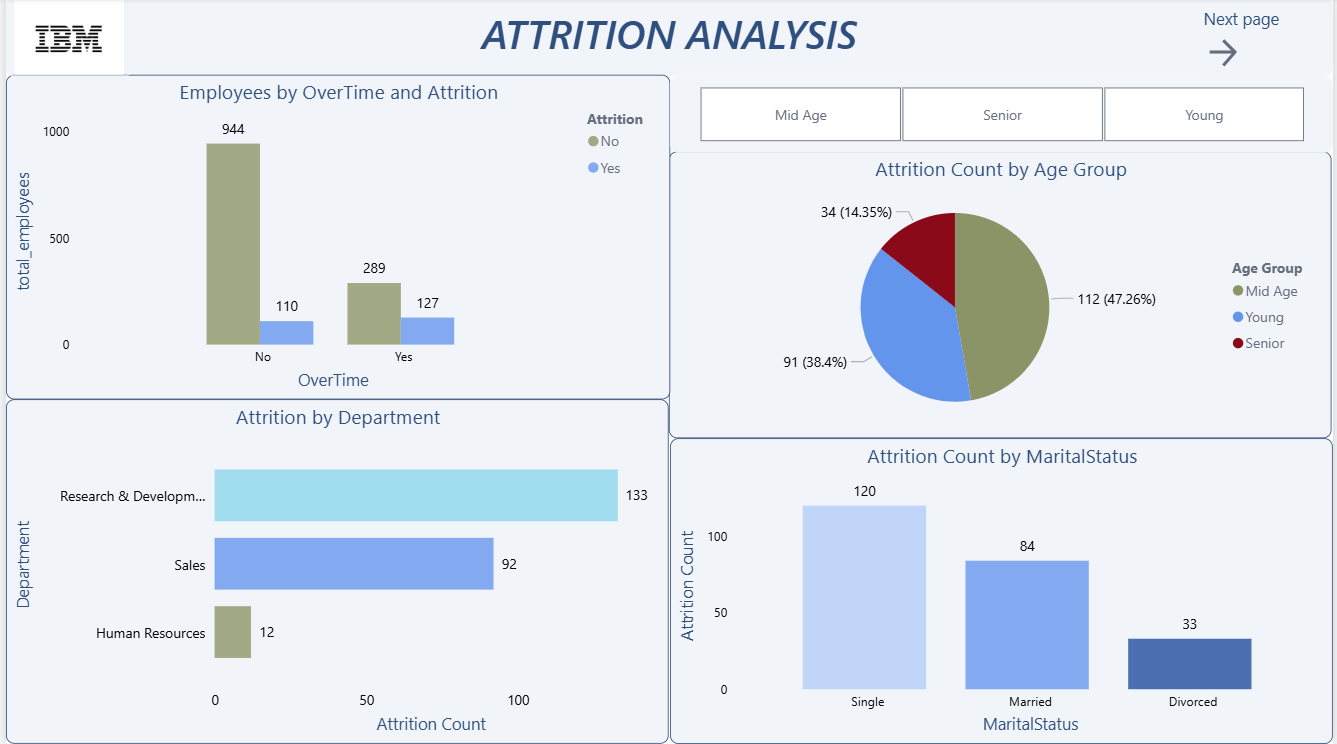

The page's visual inventory and layout, read from the dashboard file:
{"tool":"powerbi","page":{"name":"ATTRITION ANALYSIS","canvas":[1280,720],"ordinal":1},"visuals":[{"type":"textbox","box":[0,0,1280.1,75.2],"z":0},{"type":"clusteredBarChart","title":"Attrition by Department","fields":{"Category":["hr_employees.Department"],"Y":["hr_employees.Attrition Count"]},"box":[0,387.1,639.4,332.5],"z":1000},{"type":"pieChart","fields":{"Y":["hr_employees.Attrition Count"],"Category":["hr_employees.Age Group"]},"box":[639.4,148,639.4,276.6],"z":2000},{"type":"clusteredColumnChart","title":"Employees by OverTime and Attrition","fields":{"Category":["hr_employees.OverTime"],"Y":["hr_employees.total_employees"],"Series":["hr_employees.Attrition"]},"box":[0,74,640.6,313],"z":3000},{"type":"columnChart","fields":{"Category":["hr_employees.MaritalStatus"],"Y":["hr_employees.Attrition Count"]},"box":[640.6,424.7,639.4,294.8],"z":4000},{"type":"slicer","fields":{"Values":["hr_employees.Age Group"]},"box":[640.6,75.2,639.4,74],"z":5000},{"type":"actionButton","title":"Next page","box":[1151.5,4.9,127.4,70.4],"z":5002},{"type":"image","box":[0,0,122.5,75.2],"z":5003}]}

Visuals, with their boxes in screenshot pixels (x1, y1, x2, y2), scaled from the page's 1280x720 canvas onto the 1337x744 screenshot:
textbox: l=0, t=0, r=1336, b=78
"Attrition by Department" clusteredBarChart: l=0, t=400, r=668, b=743
pieChart - hr_employees.Attrition Count x hr_employees.Age Group: l=668, t=153, r=1336, b=439
"Employees by OverTime and Attrition" clusteredColumnChart: l=0, t=76, r=669, b=400
columnChart - hr_employees.MaritalStatus x hr_employees.Attrition Count: l=669, t=439, r=1336, b=743
slicer - hr_employees.Age Group: l=669, t=78, r=1336, b=154
"Next page" actionButton: l=1203, t=5, r=1336, b=78
image: l=0, t=0, r=128, b=78
